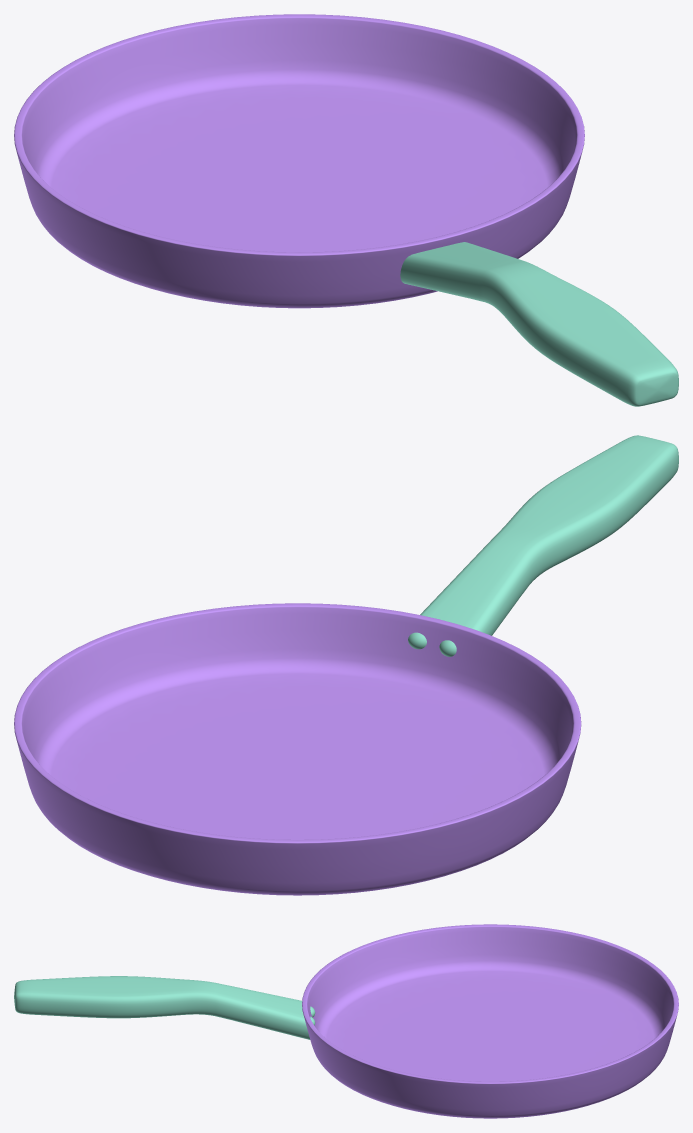
The model's file is pan.FBX.
3 renders of one model, top to bottom at view 1: azimuth 30°, elevation 25°; view 2: azimuth 150°, elevation 25°; view 3: azimuth 270°, elevation 25°, orthographic. The views are drawn at different scales.
Parts seen in each view (by area): view 1: Cylinder002f; view 2: Cylinder002f; view 3: Cylinder002f.
Boxes of the visible parts, x1=… form: Cylinder002f: x1=14, y1=14, x2=678, y2=406; Cylinder002f: x1=14, y1=435, x2=678, y2=895; Cylinder002f: x1=14, y1=924, x2=678, y2=1118.
Bounding box in the file's own units: 248 × 44.05 × 437.
